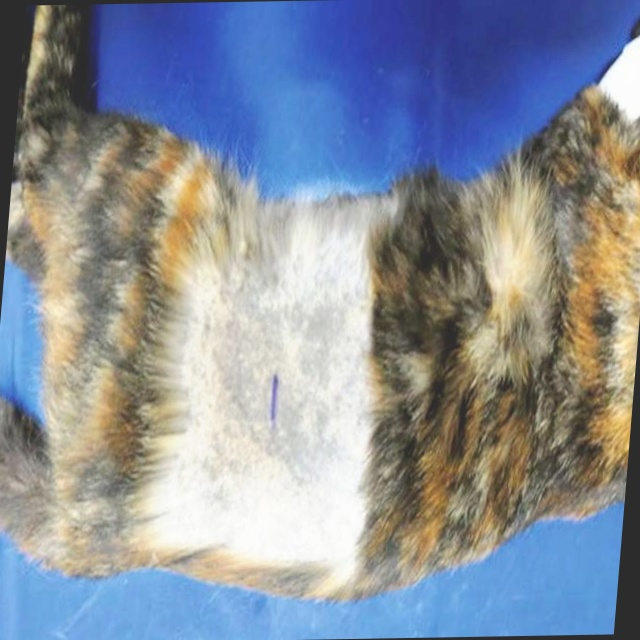hairloss: (167, 193, 388, 582)
